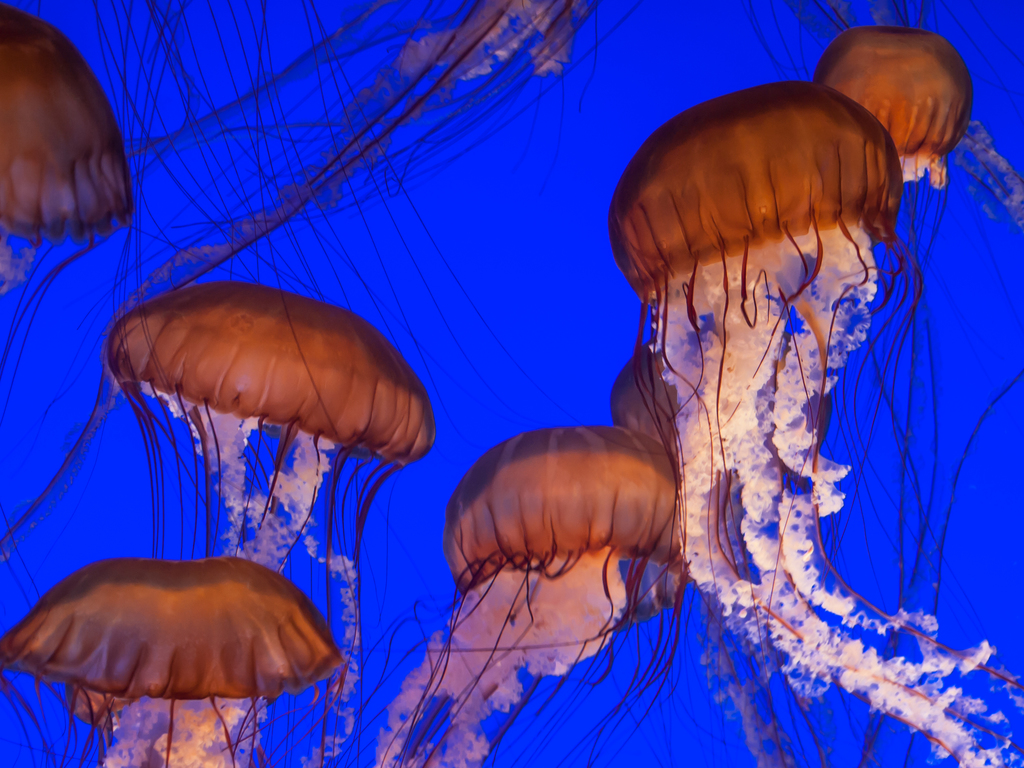Jellyfish: (0, 0, 1023, 767), (603, 75, 1023, 767)
